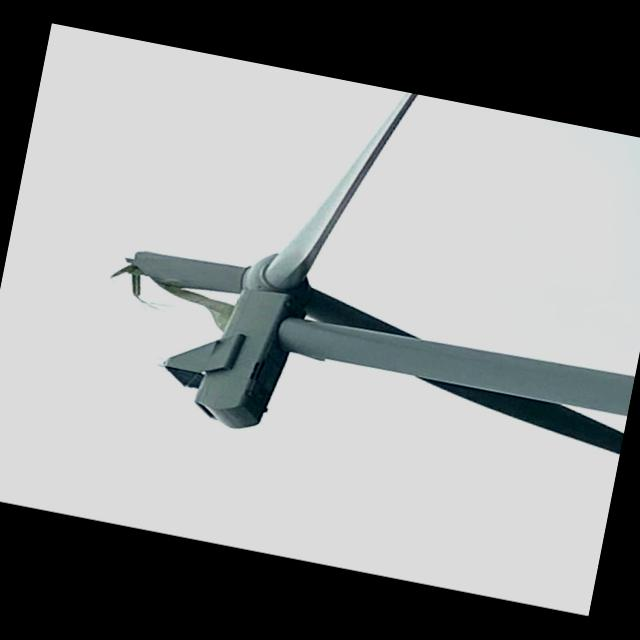crack: (94, 219, 260, 346)
